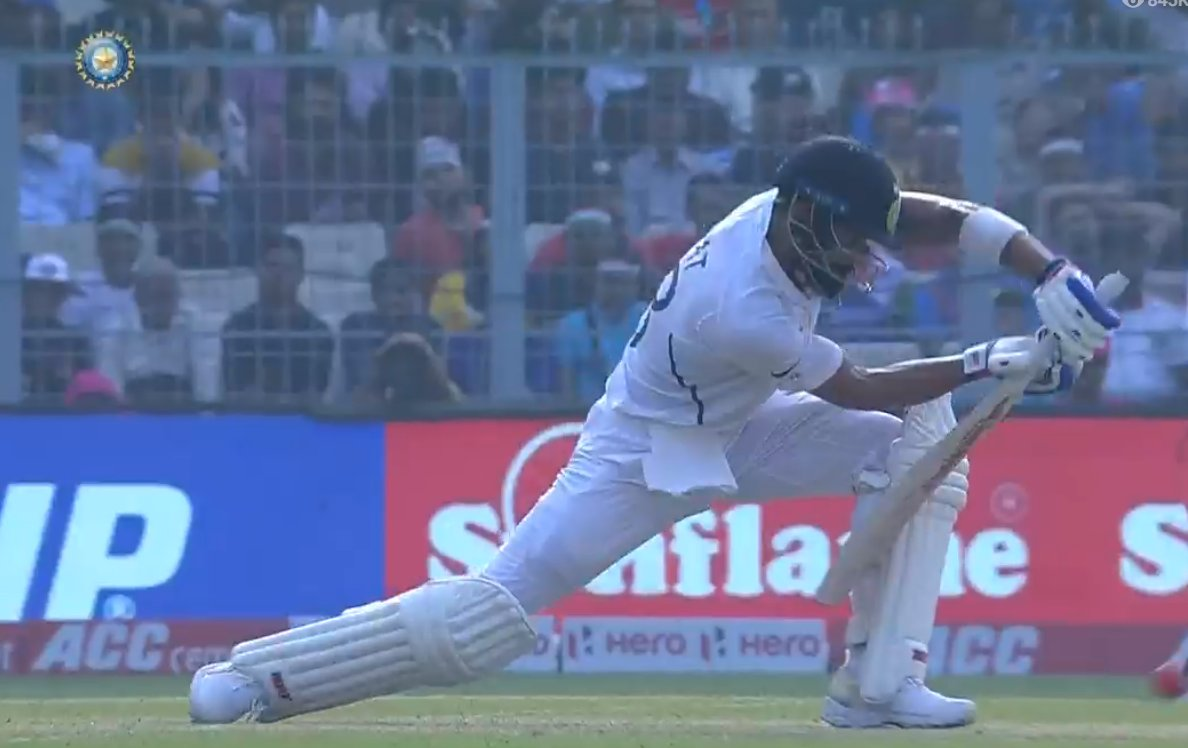Defence: (147, 19, 1152, 748)
